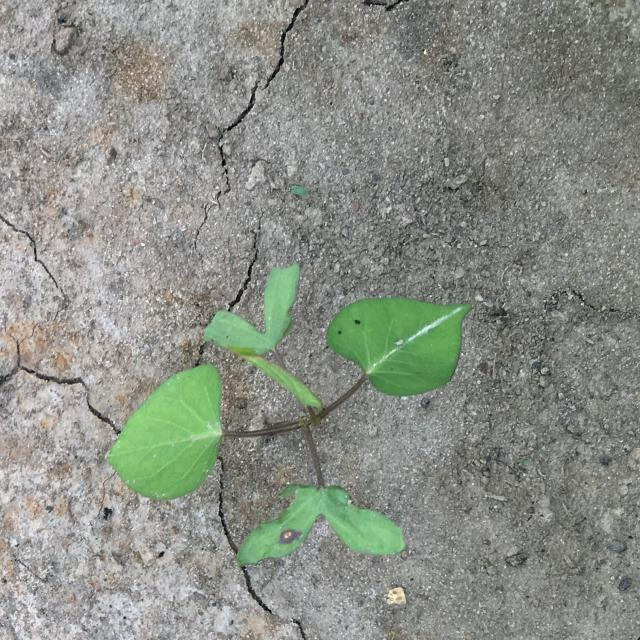MorningGlory: (103, 263, 472, 567)
